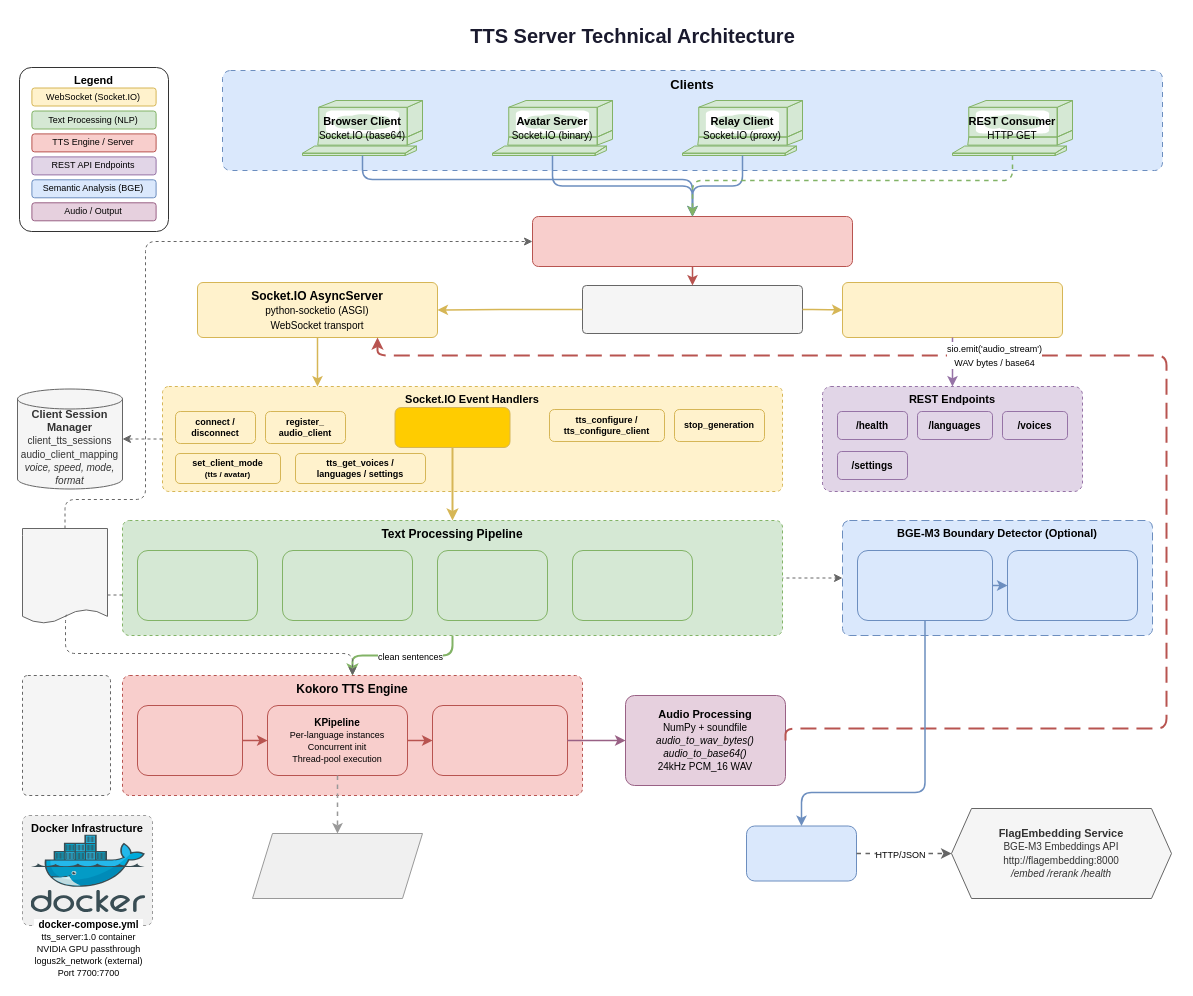
Image size: 1193x996. Some labels were removed from this diagram. Each missing label, with the centre of its shape:
"APIBased BGEBoundaryDetector Semantic completion confidence scoring" goes at point 924,585.
"APIStreaming SentenceBuffer Per-client semantic buffering" goes at point 1072,585.
"Audio Generators generate_tts_binary() generate_tts_base64() async generators" goes at point 500,740.
"Configuration" goes at point 66,735.
"FastAPI REST API & Lifespan Manager" goes at point 952,310.
"FlagEmbedding APIClient aiohttp + conn pool" goes at point 801,853.
"Idle-Timeout Flush Word-safe timeout flush logic" goes at point 492,585.
"NVIDIA GPU PyTorch / CUDA Model inference" goes at point 337,865.
"Per-Client Text Buffer _tts_buffers _append_stream()" goes at point 197,585.
"Sacremoses Detokenizer Linguistic cleanup (EN / PT)" goes at point 632,585.
"socketio.ASGIApp wraps FastAPI" goes at point 692,309.
"spaCy Sentencizer Rule-based sentence boundary detection" goes at point 347,585.
"tts.server. settings.json host, port TTS defaults FlagEmbedding" goes at point 65,576.
"tts_text_chunk (main pipeline)" goes at point 452,427.
"Uvicorn ASGI Server 0.0.0.0 : 7700" goes at point 692,241.
"Voice-Language Mapping 53 voices 9 languages" goes at point 189,740.
